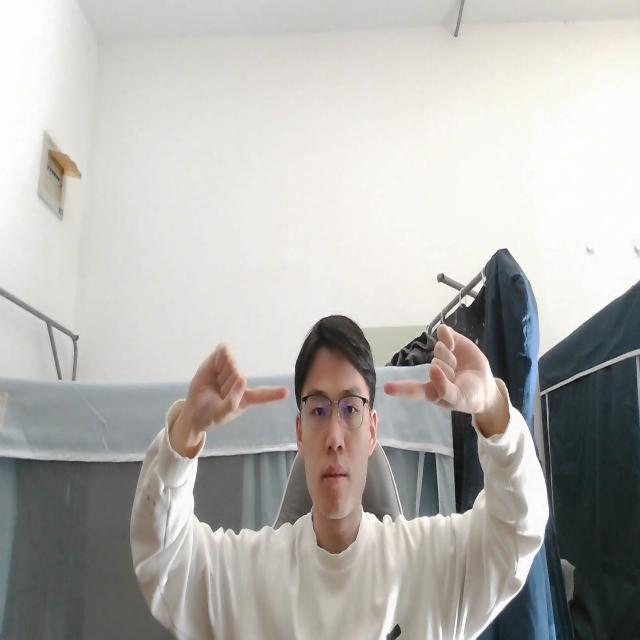one: (170, 338, 296, 448), (388, 322, 499, 420)
